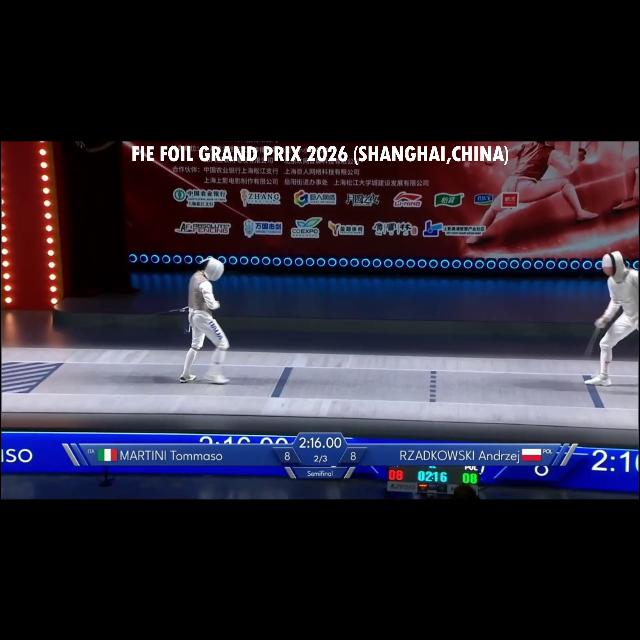blade: (574, 319, 608, 379)
